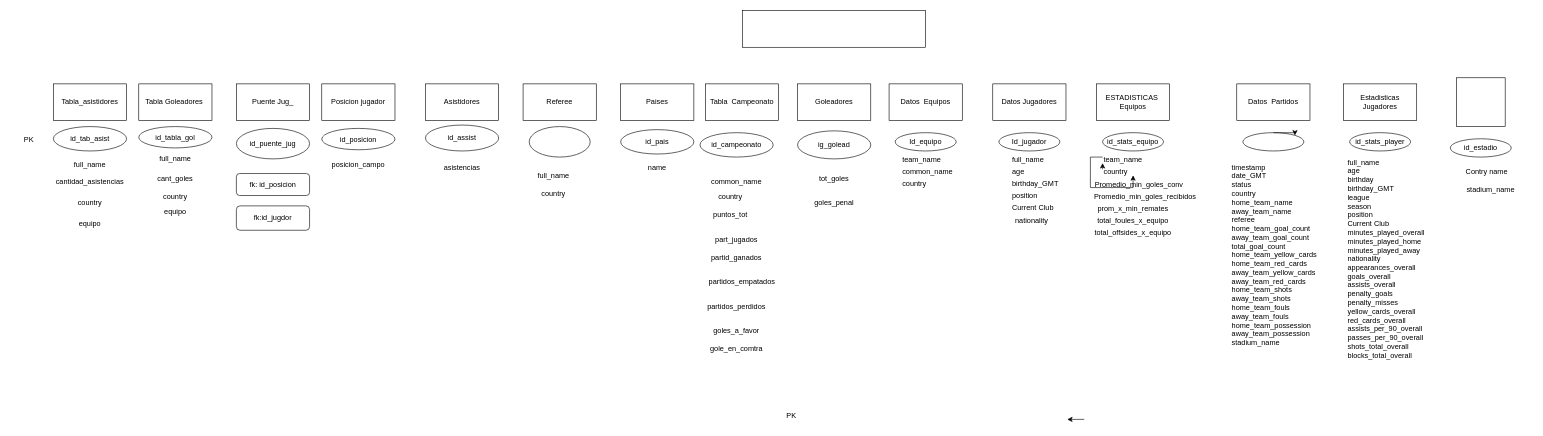
Image size: 1543x436. Some labels were removed from this diagram. The centre of each missing label's shape, as x and y in pixels:
"Datos Estadios" goes at [1480,102].
"Estadisticas Futbol 2023" goes at [834,28].
"id_match" goes at [1273,141].
"id_referee" goes at [559,141].
